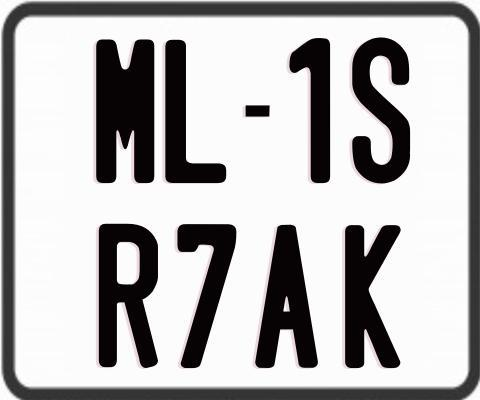1: (287, 38, 330, 188)
7: (175, 222, 235, 369)
A: (253, 222, 322, 371)
K: (345, 225, 401, 368)
L: (165, 38, 229, 183)
M: (94, 38, 152, 182)
R: (97, 224, 161, 370)
S: (350, 37, 413, 190)
